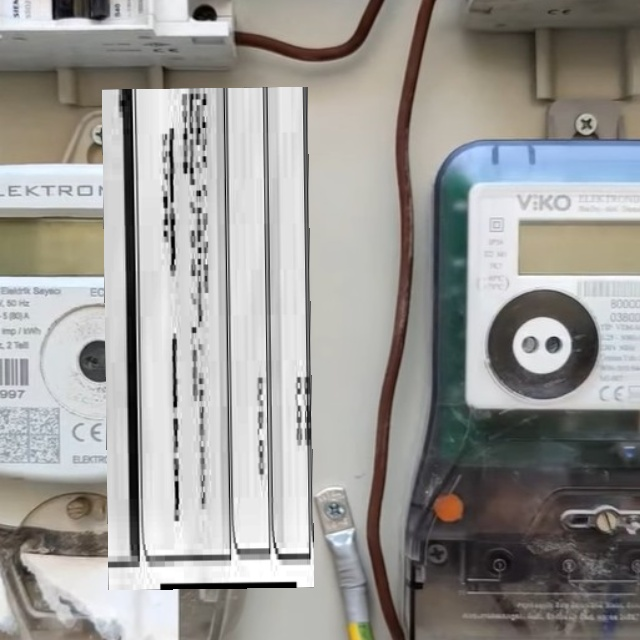electricity-bill: (102, 87, 314, 589)
